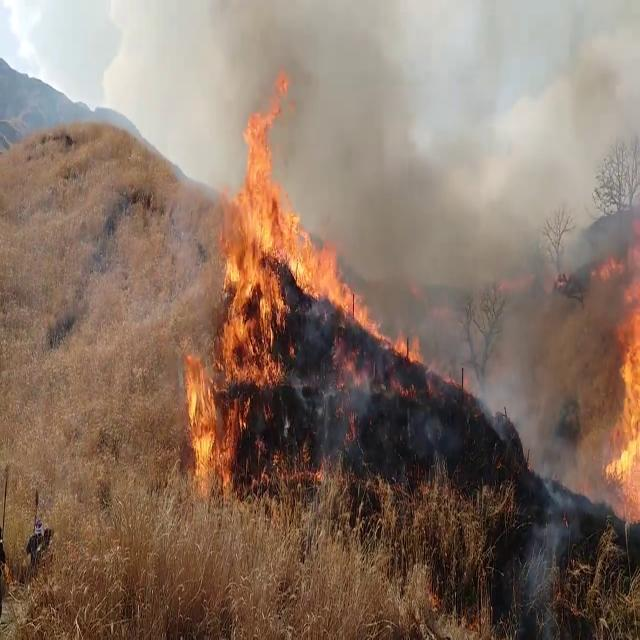Fire: (209, 62, 307, 374), (312, 232, 424, 372), (600, 215, 640, 525), (176, 340, 233, 506)
Smoke: (344, 83, 590, 492)
